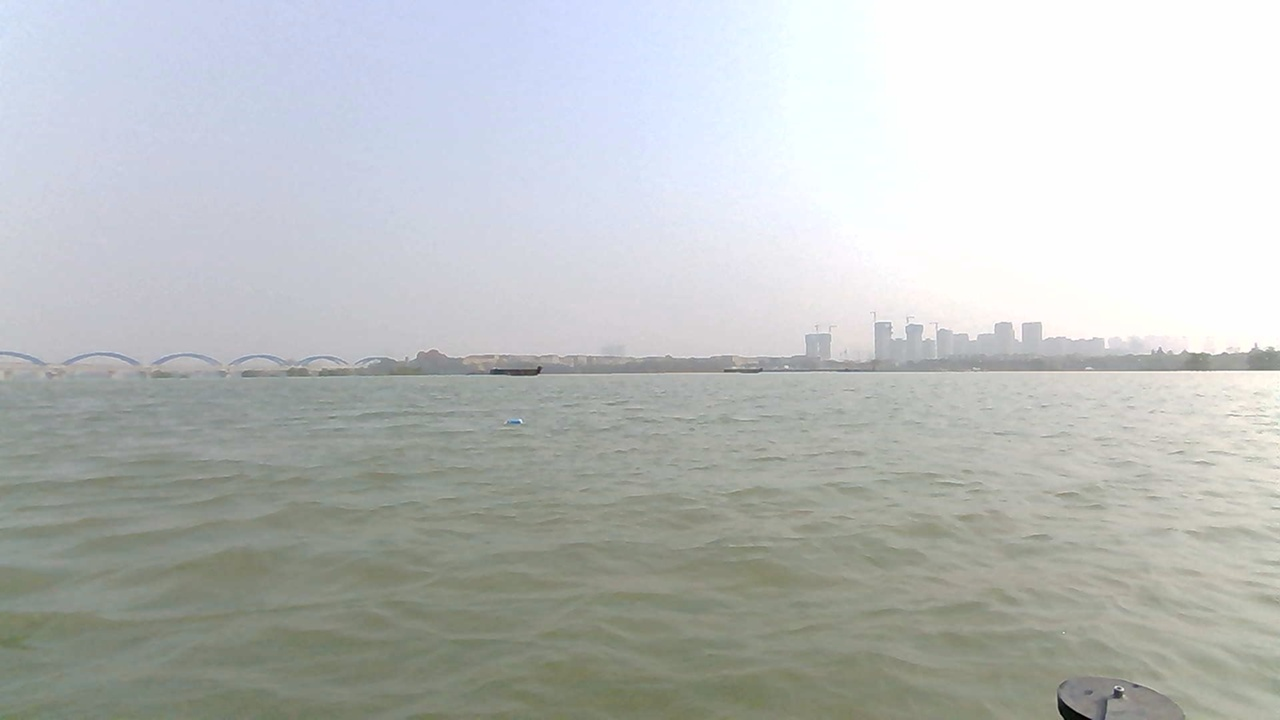bottle: (500, 414, 529, 428)
